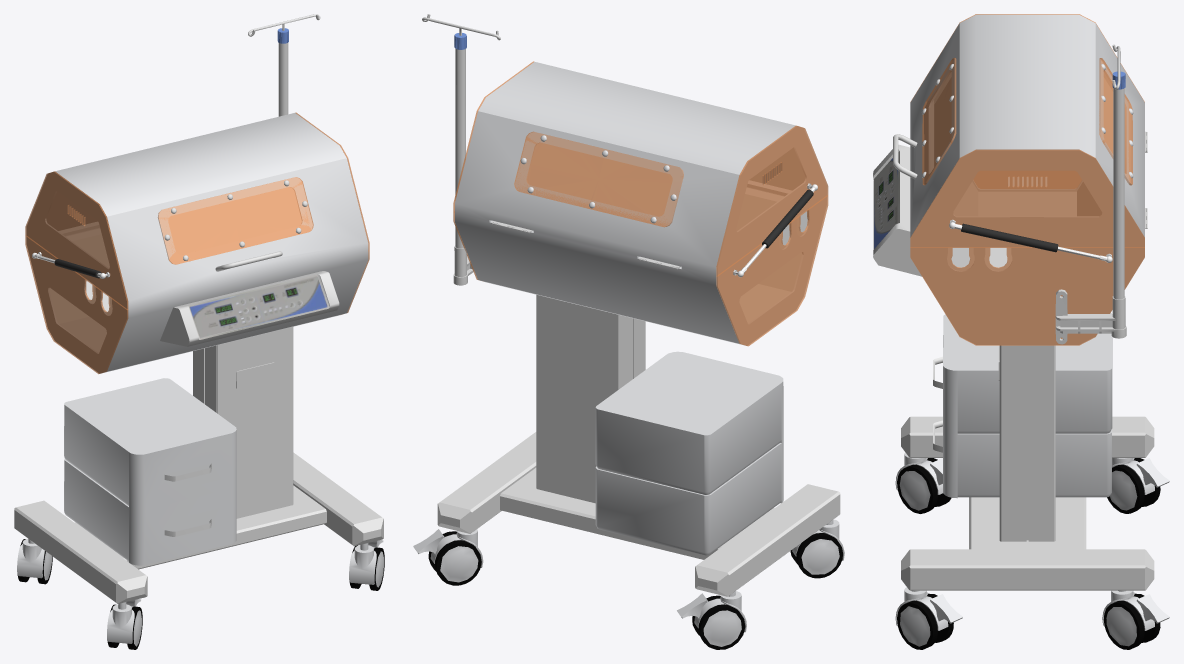
3 renders of one model, left to right at view 1: azimuth 30°, elevation 25°; view 2: azimuth 150°, elevation 25°; view 3: azimuth 270°, elevation 25°, orthographic. The views are drawn at different scales.
Parts seen in each view (by area): view 1: BL - 360; view 2: BL - 360; view 3: BL - 360.
Boxes of the visible parts, <box> form: BL - 360: <box>14,14,384,649</box>; BL - 360: <box>413,14,844,649</box>; BL - 360: <box>873,14,1169,649</box>.
Bounding box in the file's own units: 1.17 × 1.88 × 0.871.
9 materials, 2 textured.
